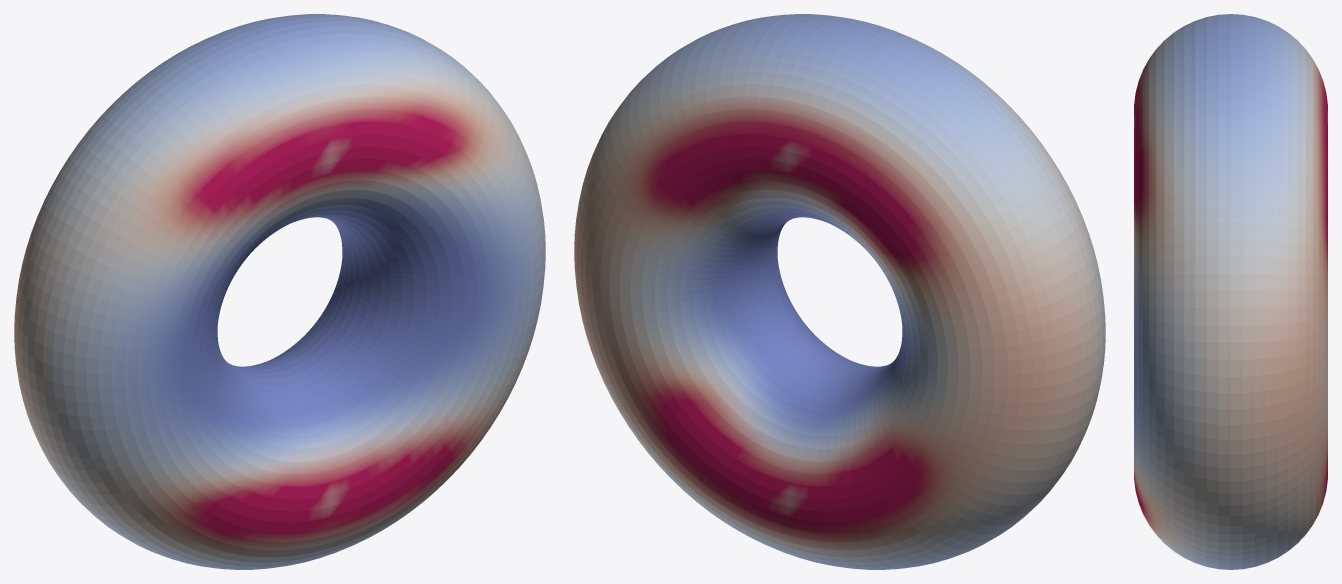
3 views of the same model, side by side, from view 1: azimuth 30°, elevation 25°; view 2: azimuth 150°, elevation 25°; view 3: azimuth 270°, elevation 25° (orthographic). The views are drawn at different scales.
Parts seen in each view (by area): view 1: world; view 2: world; view 3: world.
Boxes of the visible parts, bbox=[...] form: world: bbox=[14, 14, 545, 569]; world: bbox=[574, 14, 1105, 569]; world: bbox=[1134, 14, 1327, 569].
Bounding box in the file's own units: 19.47 × 19.47 × 6.79.
